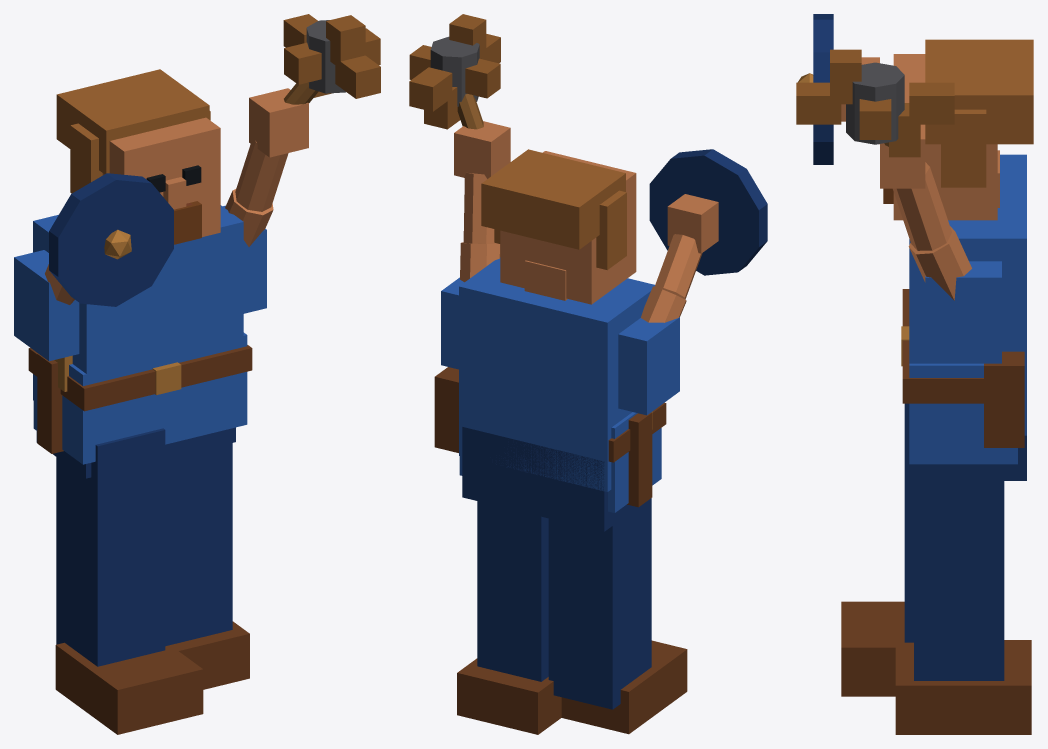
The model's file is shieldmaiden.glb.
The picture shows the model from 3 angles, left to right: view 1: azimuth 30°, elevation 25°; view 2: azimuth 150°, elevation 25°; view 3: azimuth 270°, elevation 25°; orthographic projection. The views are drawn at different scales.
Visible parts, largest first — view 1: 01_Gamba_Sinistra, 11_Corazza_Petto, 02_Gamba_Destra, 40_Scudo_Rotondo, 03_Stivale_Sinistro, 26_Capelli, 21_Viso, 30_Spalla_Sinistra, 14_Cintura_Cuoio, 12_Corazza_Falda_Sinistra, 53_Mano_Destra_Mazza, 04_Stivale_Destro (+15 smaller); view 2: 11_Corazza_Petto, 01_Gamba_Sinistra, 02_Gamba_Destra, 10_Bacino, 26_Capelli, 40_Scudo_Rotondo, 21_Viso, 04_Stivale_Destro, 30_Spalla_Sinistra, 03_Stivale_Sinistro, 53_Mano_Destra_Mazza, 33_Mano_Sinistra_Scudo (+17 smaller); view 3: 02_Gamba_Destra, 04_Stivale_Destro, 26_Capelli, 11_Corazza_Petto, 50_Spalla_Destra, 13_Corazza_Falda_Destra, 03_Stivale_Sinistro, 21_Viso, 70_Sacchetto_Lato_Destro, 28_Capelli_Lato_Destro, 52_Avambraccio_Destro, 61_Mazza_Testa (+11 smaller).
Boxes of the visible parts, bbox=[...] form: 01_Gamba_Sinistra: bbox=[56, 428, 165, 666]; 11_Corazza_Petto: bbox=[33, 205, 243, 439]; 02_Gamba_Destra: bbox=[165, 428, 232, 646]; 40_Scudo_Rotondo: bbox=[49, 173, 173, 306]; 03_Stivale_Sinistro: bbox=[55, 642, 203, 734]; 26_Capelli: bbox=[56, 69, 209, 174]; 21_Viso: bbox=[102, 117, 220, 236]; 30_Spalla_Sinistra: bbox=[14, 250, 79, 361]; 14_Cintura_Cuoio: bbox=[28, 345, 252, 411]; 12_Corazza_Falda_Sinistra: bbox=[33, 354, 168, 464]; 53_Mano_Destra_Mazza: bbox=[249, 88, 308, 157]; 04_Stivale_Destro: bbox=[170, 621, 249, 689]; 11_Corazza_Petto: bbox=[459, 257, 654, 491]; 01_Gamba_Sinistra: bbox=[548, 498, 651, 709]; 02_Gamba_Destra: bbox=[477, 501, 548, 681]; 10_Bacino: bbox=[462, 427, 637, 531]; 26_Capelli: bbox=[481, 149, 625, 249]; 40_Scudo_Rotondo: bbox=[649, 149, 767, 275]; 21_Viso: bbox=[500, 151, 636, 304]; 04_Stivale_Destro: bbox=[457, 658, 561, 734]; 30_Spalla_Sinistra: bbox=[618, 317, 679, 415]; 03_Stivale_Sinistro: bbox=[561, 640, 687, 734]; 53_Mano_Destra_Mazza: bbox=[454, 121, 510, 178]; 33_Mano_Sinistra_Scudo: bbox=[667, 194, 718, 253]; 02_Gamba_Destra: bbox=[914, 464, 1004, 680]; 04_Stivale_Destro: bbox=[895, 640, 1031, 734]; 26_Capelli: bbox=[925, 39, 1033, 144]; 11_Corazza_Petto: bbox=[909, 154, 1026, 435]; 50_Spalla_Destra: bbox=[925, 261, 1001, 363]; 13_Corazza_Falda_Destra: bbox=[909, 363, 1017, 464]; 03_Stivale_Sinistro: bbox=[841, 601, 913, 696]; 21_Viso: bbox=[893, 54, 997, 220]; 70_Sacchetto_Lato_Destro: bbox=[984, 351, 1024, 447]; 28_Capelli_Lato_Destro: bbox=[941, 109, 986, 187]; 52_Avambraccio_Destro: bbox=[893, 162, 951, 250]; 61_Mazza_Testa: bbox=[846, 62, 904, 144].
Size of the model in its own units: 1.92 by 3.5 by 1.05.
